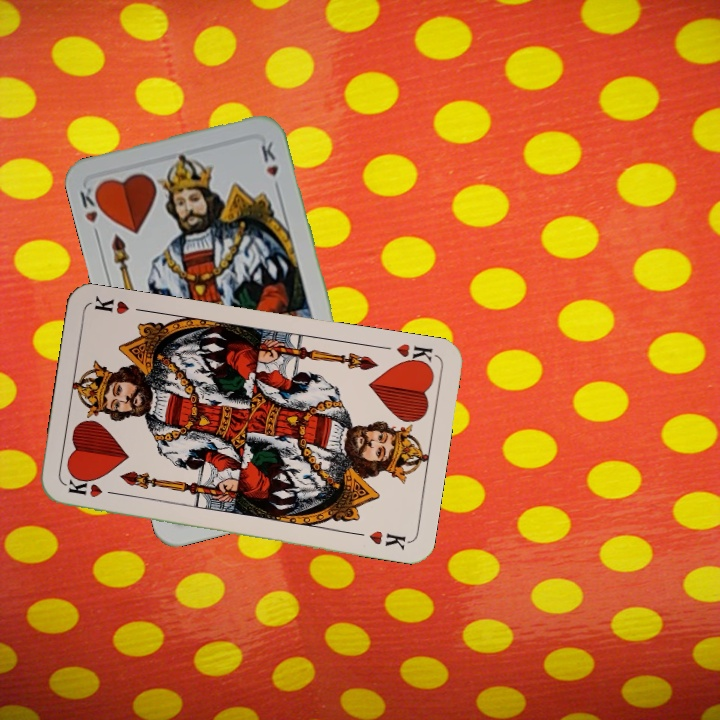HK: (75, 181, 108, 242), (64, 475, 123, 500), (392, 339, 435, 371)
